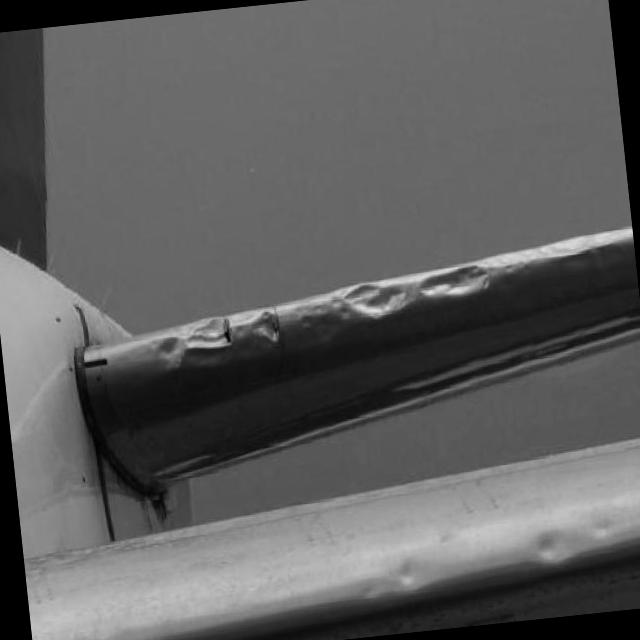dent: (341, 274, 414, 326), (420, 259, 495, 306), (187, 316, 236, 358), (242, 304, 288, 348), (146, 329, 192, 372), (529, 524, 569, 566), (394, 554, 429, 596)
